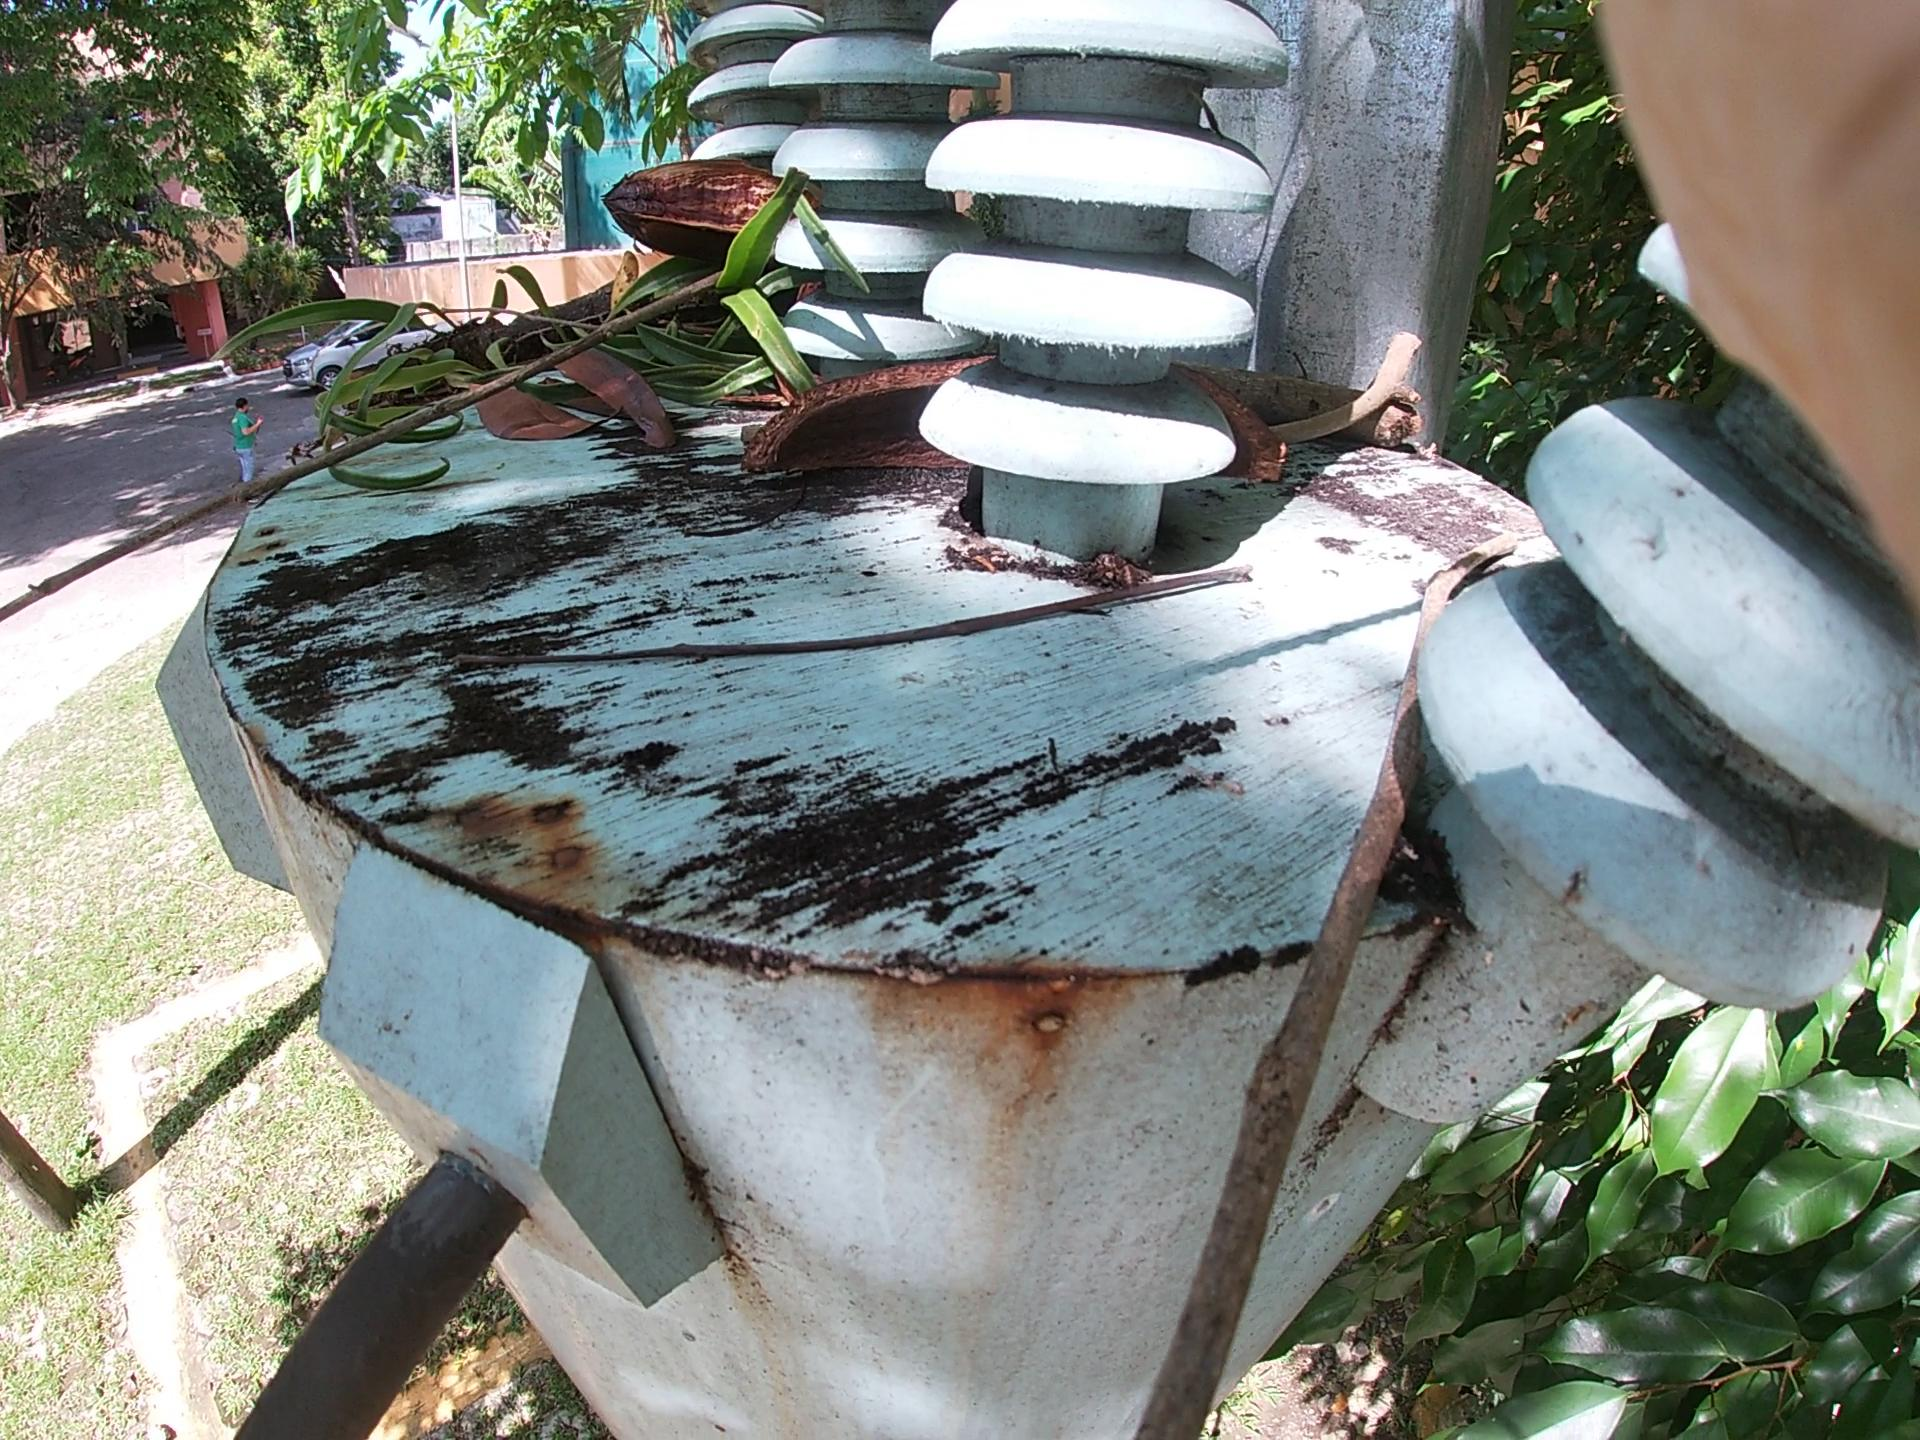branch with leaves: (325, 203, 788, 442)
leaf: (434, 318, 783, 484)
mahogany fruit: (736, 290, 1373, 611), (618, 126, 949, 386)
tree branch: (1175, 513, 1497, 1401), (101, 163, 801, 560), (1188, 277, 1587, 507), (466, 588, 1305, 626)
